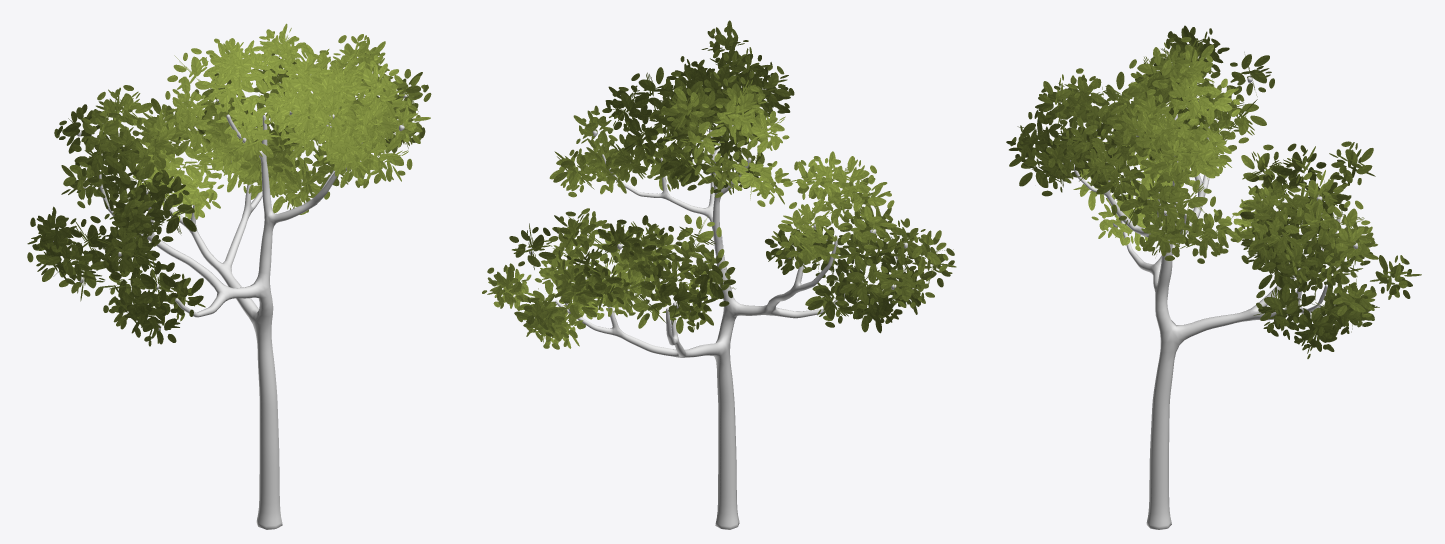
File: arvore_4.fbx
The picture shows the model from 3 angles, left to right: view 1: azimuth 30°, elevation 25°; view 2: azimuth 150°, elevation 25°; view 3: azimuth 270°, elevation 25°; orthographic projection. The views are drawn at different scales.
Parts seen in each view (by area): view 1: copa_4, tronco_4; view 2: copa_4, tronco_4; view 3: copa_4, tronco_4.
Boxes of the visible parts, box(x1,y1,x2,y2) form: copa_4: box(27, 23, 431, 346); tronco_4: box(99, 114, 362, 529); copa_4: box(482, 20, 956, 349); tronco_4: box(555, 127, 845, 529); copa_4: box(1006, 25, 1421, 358); tronco_4: box(1070, 114, 1340, 529).
Size of the model in its own units: 8562 by 9598 by 7900.
